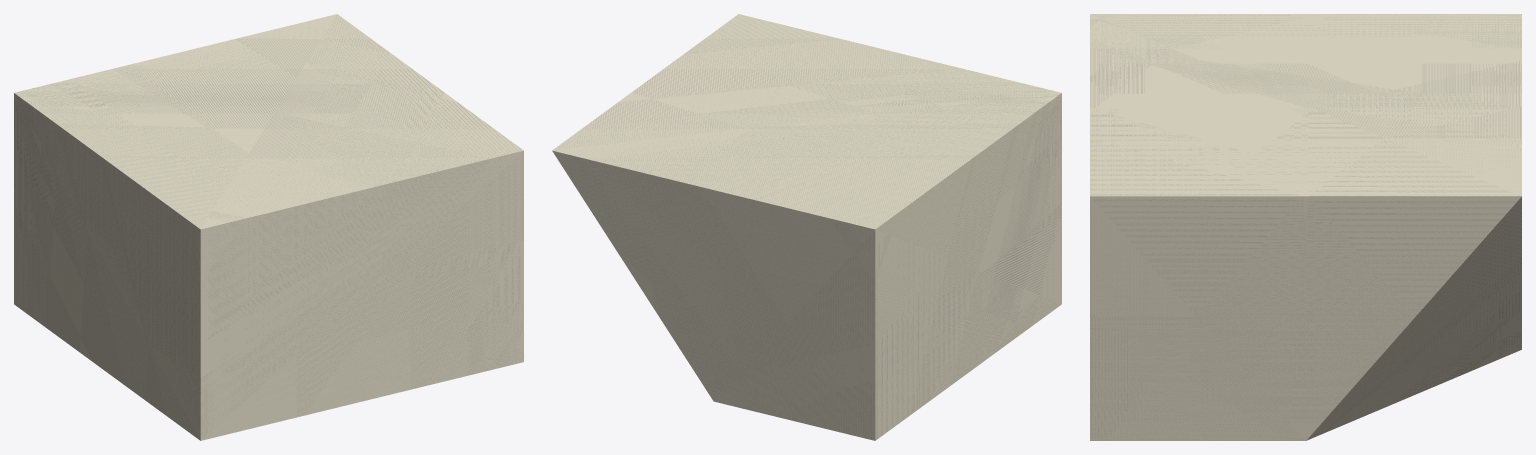
File: building_035.dae
The picture shows the model from 3 angles, left to right: view 1: azimuth 30°, elevation 25°; view 2: azimuth 150°, elevation 25°; view 3: azimuth 270°, elevation 25°; orthographic projection. The views are drawn at different scales.
Visible parts, largest first — view 1: building_035; view 2: building_035; view 3: building_035.
Boxes of the visible parts, <box> form: building_035: <box>14,14,523,440</box>; building_035: <box>552,14,1061,440</box>; building_035: <box>1090,14,1521,440</box>.
Size of the model in its own units: 1 by 0.625 by 1.
